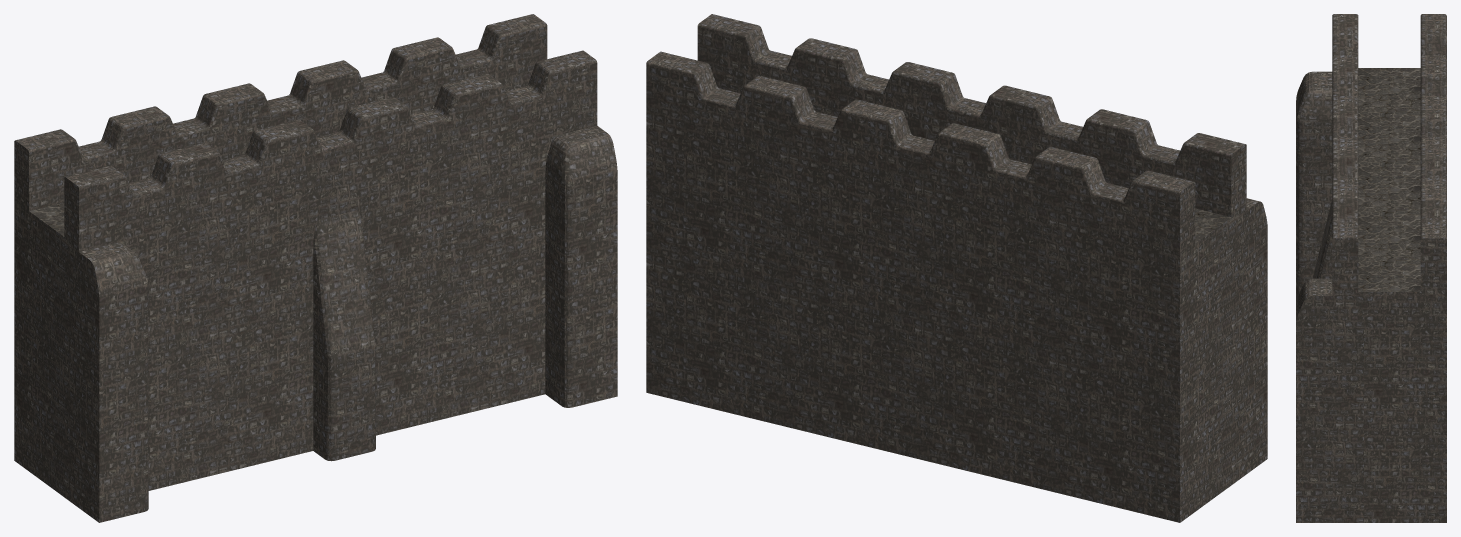
Rendered from CastleWallLarge.fbx.
3 views of the same model, side by side, from view 1: azimuth 30°, elevation 25°; view 2: azimuth 150°, elevation 25°; view 3: azimuth 270°, elevation 25° (orthographic). The views are drawn at different scales.
Visible parts, largest first — view 1: CastleWallLarge; view 2: CastleWallLarge; view 3: CastleWallLarge.
Boxes of the visible parts, x1,y1,x2,y2 form: CastleWallLarge: [14, 14, 617, 522]; CastleWallLarge: [646, 14, 1267, 522]; CastleWallLarge: [1296, 14, 1446, 522].
Size of the model in its own units: 1250 by 740 by 355.
